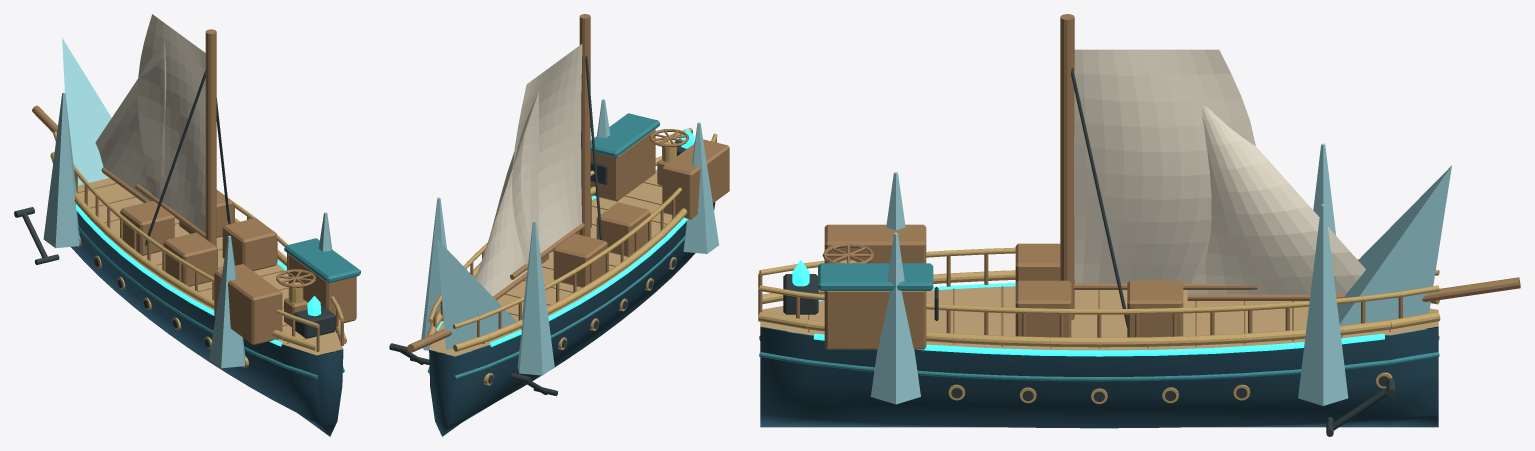
The model's file is premium_sea_swallow.glb.
3 renders of one model, left to right at view 1: azimuth 30°, elevation 25°; view 2: azimuth 150°, elevation 25°; view 3: azimuth 270°, elevation 25°, orthographic. The views are drawn at different scales.
Parts seen in each view (by area): view 1: premium_sea_swallow; view 2: premium_sea_swallow; view 3: premium_sea_swallow.
Boxes of the visible parts, box(x1,y1,x2,y2) form: premium_sea_swallow: box(14, 14, 360, 436); premium_sea_swallow: box(389, 14, 729, 436); premium_sea_swallow: box(758, 14, 1520, 436).
Bounding box in the file's own units: 2.73 × 5.68 × 9.56.
